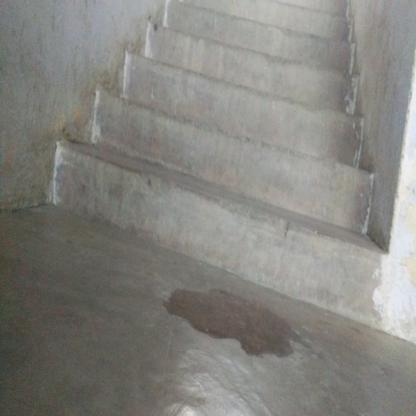stairs: (103, 44, 357, 262)
